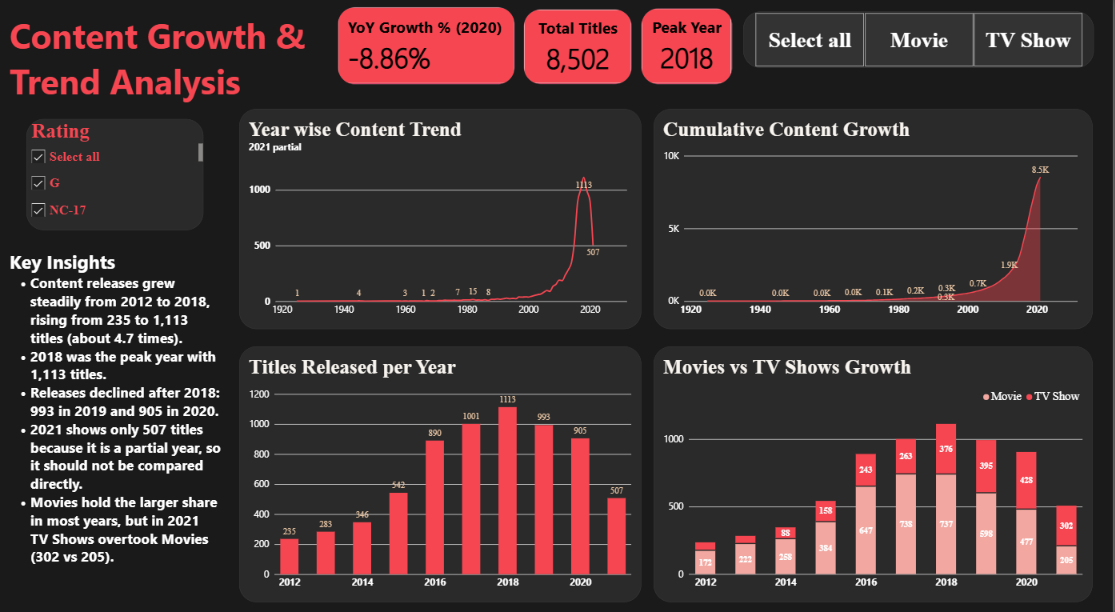

The page's visual inventory and layout, read from the dashboard file:
{"tool":"powerbi","page":{"name":"Growth Trends","canvas":[1920,1080],"ordinal":2},"visuals":[{"type":"lineChart","title":"Year wise Content Trend","fields":{"Category":["Dataset.release_year"],"Y":["Dataset.Total Titles"]},"box":[415.4,199.2,693,379.4],"z":0},{"type":"areaChart","title":"Cumulative Content Growth","fields":{"Category":["Dataset.release_year"],"Y":["Dataset.Cumulative Titles"]},"box":[1129.6,199.2,756.6,379.4],"z":1000},{"type":"clusteredColumnChart","title":"Titles Released per Year","fields":{"Category":["Dataset.release_year"],"Y":["Dataset.Total Titles"]},"box":[415.4,608.3,693,440.8],"z":2000},{"type":"columnChart","title":"Movies vs TV Shows Growth","fields":{"Category":["Dataset.release_year"],"Series":["Dataset.type"],"Y":["Dataset.Total Titles"]},"box":[1129.6,608.3,756.6,440.8],"z":3000},{"type":"cardVisual","fields":{"Data":["Dataset.Peak Year"]},"box":[1108.4,25.4,156.8,131.4],"z":4000},{"type":"cardVisual","fields":{"Data":["Dataset.Total Titles"]},"box":[905,27.6,186.5,129.3],"z":5000},{"type":"cardVisual","fields":{"Data":["Dataset.YoY Growth %"]},"box":[585,23.3,305.2,133.5],"z":6000},{"type":"slicer","fields":{"Values":["Dataset.rating"]},"box":[48.7,216.2,304.9,191.1],"z":7000},{"type":"slicer","fields":{"Values":["Dataset.type"]},"box":[1284.4,31.8,604,97.5],"z":8000},{"type":"textbox","box":[19.3,30.9,565.5,185.3],"z":9000},{"type":"textbox","box":[19.1,440.8,364.5,574.4],"z":10000}]}

Visuals, with their boxes in screenshot pixels (x1, y1, x2, y2), scaled from the page's 1920x1080 canvas onto the 1115x612 screenshot:
"Year wise Content Trend" lineChart: (left=241, top=113, right=644, bottom=328)
"Cumulative Content Growth" areaChart: (left=656, top=113, right=1095, bottom=328)
"Titles Released per Year" clusteredColumnChart: (left=241, top=345, right=644, bottom=594)
"Movies vs TV Shows Growth" columnChart: (left=656, top=345, right=1095, bottom=594)
cardVisual - Dataset.Peak Year: (left=644, top=14, right=735, bottom=89)
cardVisual - Dataset.Total Titles: (left=526, top=16, right=634, bottom=89)
cardVisual - Dataset.YoY Growth %: (left=340, top=13, right=517, bottom=89)
slicer - Dataset.rating: (left=28, top=123, right=205, bottom=231)
slicer - Dataset.type: (left=746, top=18, right=1097, bottom=73)
textbox: (left=11, top=18, right=340, bottom=123)
textbox: (left=11, top=250, right=223, bottom=575)
